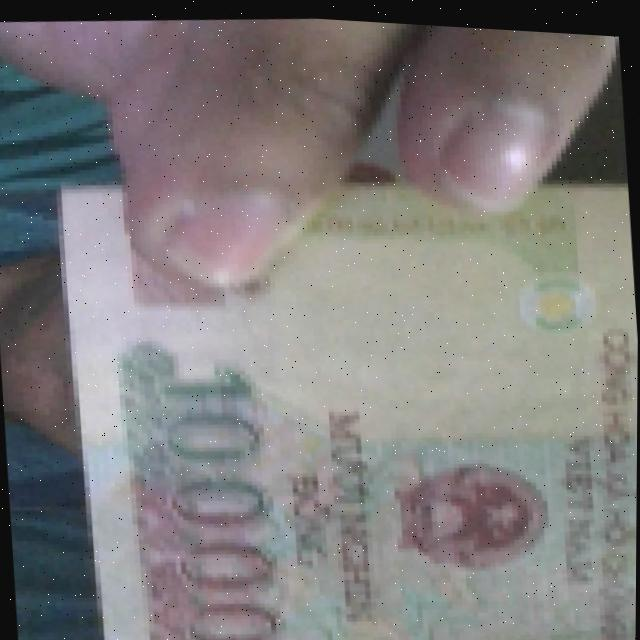10 000 VND: (50, 133, 639, 640)
